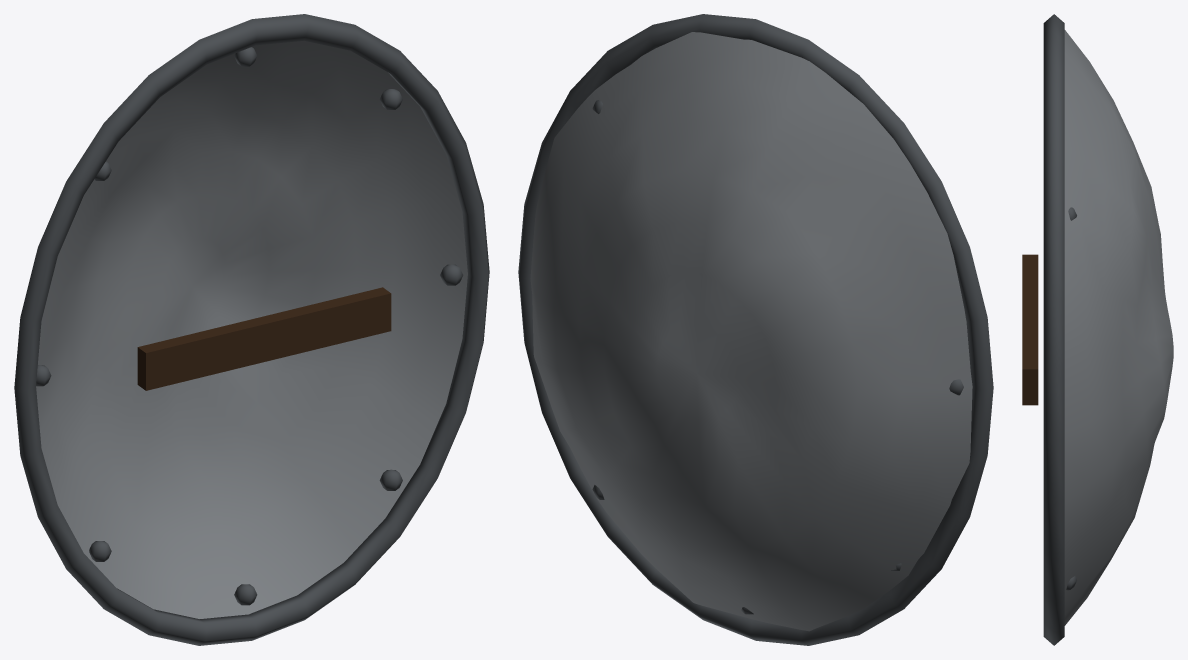
The model's file is shield.glb.
3 views of the same model, side by side, from view 1: azimuth 30°, elevation 25°; view 2: azimuth 150°, elevation 25°; view 3: azimuth 270°, elevation 25° (orthographic). The views are drawn at different scales.
Parts seen in each view (by area): view 1: Plate; view 2: Plate; view 3: Plate.
Part boxes in pixels (left/top/right/bottom): Plate: left=14, top=14, right=489, bottom=645; Plate: left=518, top=14, right=993, bottom=645; Plate: left=1022, top=14, right=1173, bottom=645.
Size of the model in its own units: 0.6591 by 0.8238 by 0.19.
